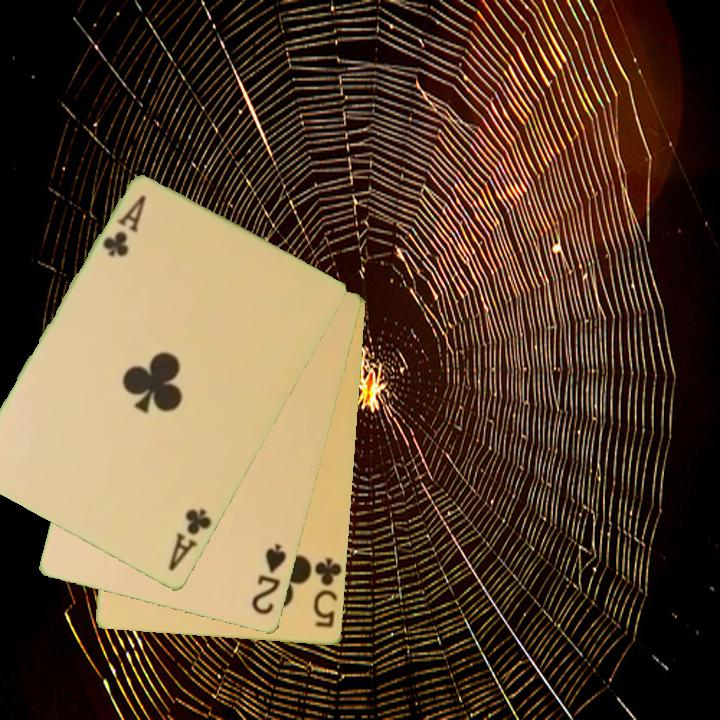2s: (248, 540, 290, 618)
5c: (310, 554, 344, 632)
Ac: (165, 505, 215, 575), (99, 191, 149, 261)
